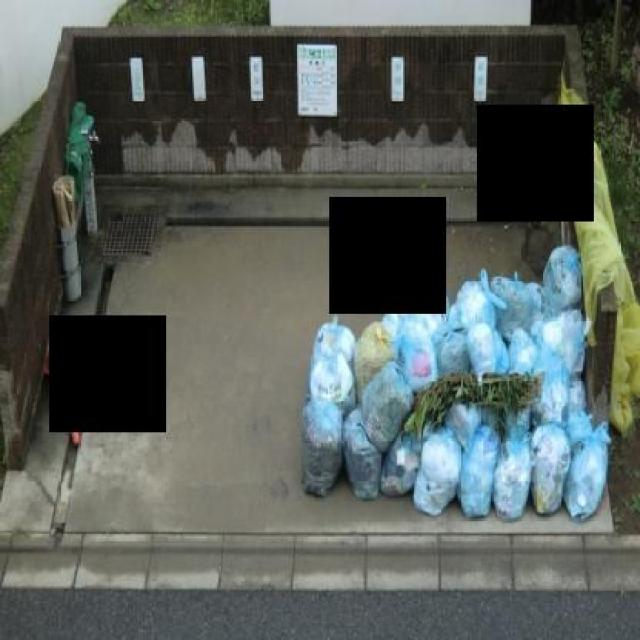plastic bag: (294, 203, 629, 515), (543, 54, 639, 471), (558, 409, 612, 526), (299, 392, 343, 505), (360, 363, 414, 452), (306, 309, 356, 403), (452, 426, 500, 523), (414, 431, 458, 520), (492, 436, 531, 536), (340, 412, 382, 497), (452, 269, 500, 337), (539, 240, 583, 311)
